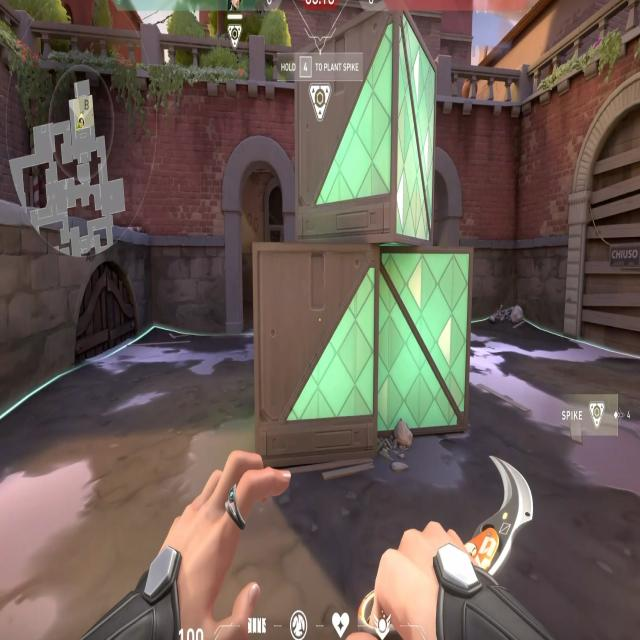B_Boathouse: (220, 132, 296, 340)
B_Site_Box: (246, 0, 486, 472)
